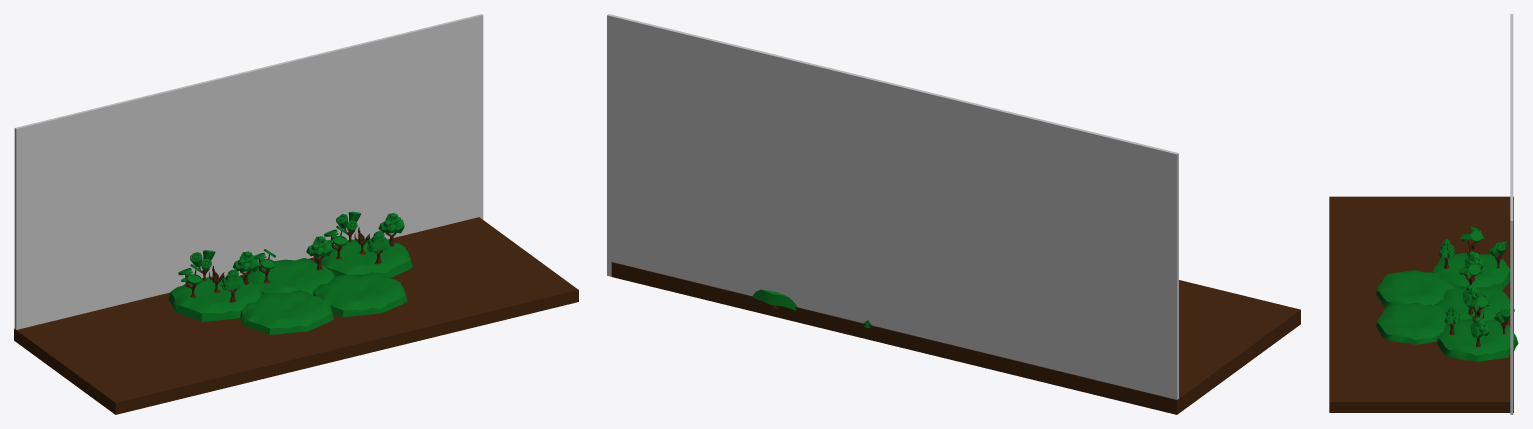
Rendered from terrain.gltf.
3 renders of one model, left to right at view 1: azimuth 30°, elevation 25°; view 2: azimuth 150°, elevation 25°; view 3: azimuth 270°, elevation 25°, orthographic. The views are drawn at different scales.
Parts seen in each view (by area): view 1: Cube; view 2: Cube; view 3: Cube.
Boxes of the visible parts, box(x1,y1,x2,y2) form: Cube: box(14, 14, 578, 414); Cube: box(607, 14, 1300, 414); Cube: box(1329, 14, 1518, 414).
Size of the model in its own units: 222 by 104 by 85.53.
